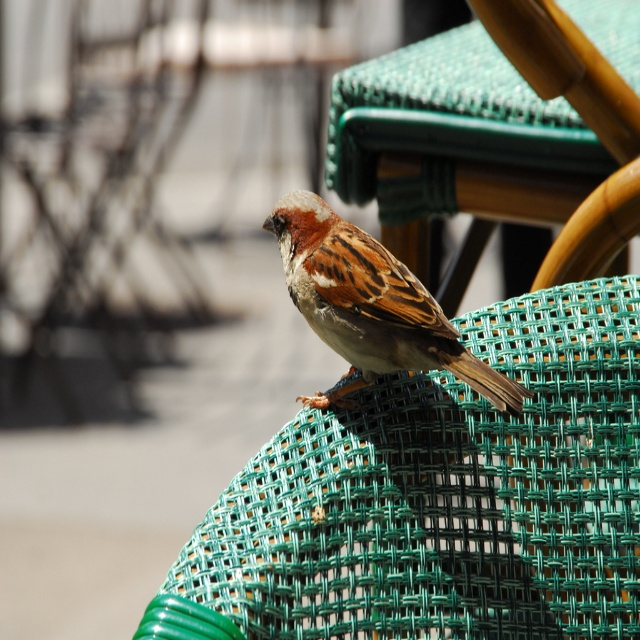Sparrow: (262, 187, 533, 415)
